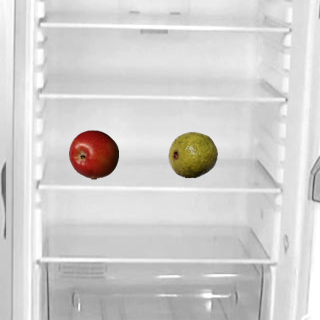Apple Braeburn: (68, 129, 118, 179)
Guava: (167, 129, 217, 179)
